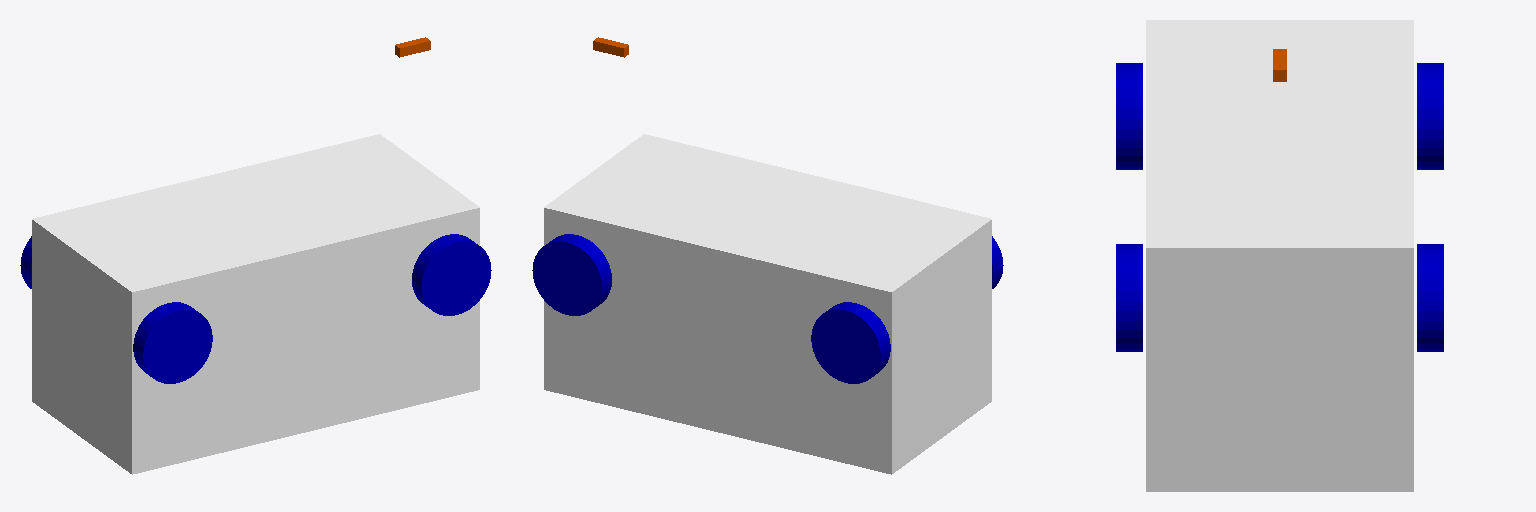
robot.urdf — my_robot:
<?xml version='1.0'?>
<robot name="my_robot">
  <gazebo>
    <static>false</static>
  </gazebo>

<!-- specifying materials and colors of model-->
  <material name="blue">
    <color rgba="0 0 0.8 1"/>
  </material>

  <material name="white">
    <color rgba="1 1 1 1"/>
  </material>

<!-- chassis description-->
	<link name='base_link'>
      <collision name='collision'>
        <geometry>
          <box size="1 .5 .5"/>
        </geometry>
        <origin xyz="0 0 0" rpy="0 0 0"/>
      </collision>

      <visual name='visual'>
        <geometry>
          <box size="1 .5 .5"/>
        </geometry>
        <origin xyz="0 0 0" rpy="0 0 0"/>
        <material name="white"/>
      </visual>
      <gazebo>
        <friction>
          <ode>
            <mu>0.00</mu>
            <mu2>0.00</mu2>
          </ode>
        </friction>
      </gazebo>
  </link>

    <!-- front right wheel description-->
  <link name="fr_wheel">
    
    <collision name="collision">
      <geometry>
        <sphere radius="0.1"/>
      </geometry>
      <origin xyz="0 0 0" rpy="0 1.5707 1.5707"/>
    </collision>
    <visual name="visual">
      <geometry>
        <cylinder radius=".1" length=".05"/>
      </geometry>
      <origin xyz="0 0 0" rpy="0 1.5707 1.5707"/>
      <material name="blue"/>
    </visual>
    <!-- replace inertial values later-->
    <inertial>
      <mass value="3"/>
      <inertia ixx="0.4" ixy="0.0" ixz="0.0" iyy="0.4" iyz="0.0" izz="0.2"/>
    </inertial>
  </link>
  <joint type="fixed" name="fr_wheel_hinge">
    <origin xyz=".4 .28 .1" rpy="0 0 0"/>
    <child link="fr_wheel"/>
    <parent link="base_link"/>
    <axis xyz="0 1 0"/>
	</joint>

  <!-- descripton for the front left wheel-->
  <link name="fl_wheel">
    
    <collision name="collision">
      <geometry>
        <sphere radius="0.1"/>
      </geometry>
      <origin xyz="0 0 0" rpy="0 1.5707 1.5707"/>
    </collision>
    <visual name="visual">
      <geometry>
        <cylinder radius=".1" length=".05"/>
      </geometry>
      <origin xyz="0 0 0" rpy="0 1.5707 1.5707"/>
      <material name="blue"/>
    </visual>
    <!-- replace inertial values later-->
    <inertial>
      <mass value="3"/>
      <inertia ixx="0.4" ixy="0.0" ixz="0.0" iyy="0.4" iyz="0.0" izz="0.2"/>
    </inertial>
  </link>

  <joint type="fixed" name="fl_wheel_hinge">
      <origin xyz="0.4 -.28 .1" rpy="0 0 0"/>
      <child link="fl_wheel"/>
      <parent link="base_link"/>
      <axis xyz="0 1 0"/>
	</joint>

  <!--back right wheel description-->
  <link name="br_wheel">
    <collision name="collision">
      <geometry>
        <sphere radius="0.1"/>
      </geometry>
      <origin xyz="0 0 0" rpy="0 1.5707 1.5707"/>
    </collision>
    <visual name="visual">
      <geometry>
        <cylinder radius=".1" length=".05"/>
      </geometry>
      <origin xyz="0 0 0" rpy="0 1.5707 1.5707"/>
      <material name="blue"/>
    </visual>
    <!-- replace inertial values later-->
    <inertial>
      <mass value="3"/>
      <inertia ixx="0.4" ixy="0.0" ixz="0.0" iyy="0.4" iyz="0.0" izz="0.2"/>
    </inertial>
  </link>
  <joint type="fixed" name="br_wheel_hinge">
    <origin xyz="-0.4 .28 .1" rpy="0 0 0"/>
    <child link="br_wheel"/>
    <parent link="base_link"/>
    <axis xyz="0 1 0"/>
	</joint>

  <!-- back left wheel description-->
  <link name="bl_wheel">
    <collision name="collision">
      <geometry>
        <sphere radius="0.1"/>
      </geometry>
      <origin xyz="0 0 0" rpy="0 1.5707 1.5707"/>
    </collision>
    <visual name="visual">
      <geometry>
        <cylinder radius=".1" length=".05"/>
      </geometry>
      <origin xyz="0 0 0" rpy="0 1.5707 1.5707"/>
      <material name="blue"/>
    </visual>
     <!-- replace inertial values later-->
    <inertial>
      <mass value="3"/>
      <inertia ixx="0.4" ixy="0.0" ixz="0.0" iyy="0.4" iyz="0.0" izz="0.2"/>
    </inertial>
  </link>
  <joint type="fixed" name="bl_wheel_hinge">
      <origin xyz="-.4 -.28 .1" rpy="0 0 0"/>
      <child link="bl_wheel"/>
      <parent link="base_link"/>
      <axis xyz="0 1 0"/>
	</joint>


  <!--specifying the depth camera-->
  <link name="camera_link">
    <collision>
      <origin xyz="0 0 0" rpy="0 0 0"/>
      <geometry>
        <box size=".025 .09 .025"/>
      </geometry>
    </collision>

    <visual>
      <origin xyz="0 0 0" rpy="0 0 0"/>
      <geometry>
        <box size=".09 .025 .025"/>
      </geometry>
    </visual>

    <inertial>
      <mass value=".01" />
      <inertia ixx=".001" ixy="0" ixz="0" iyy=".001" iyz="0" izz=".001" />
    </inertial>
  </link>

  <joint name="dc_joint" type="fixed">
    <axis xyz="0 1 0"/>
    <origin xyz=".45 0 .6" rpy="0 0 0"/>
    <parent link="base_link"/>
    <child link="camera_link"/>
  </joint>

  <!--plugins-->
        <!--joy control-->
  <gazebo>
    <plugin name="drive_controller" filename="libset_model_velocity.so">
    </plugin>
  </gazebo>
        <!--depth camera plugin-->
  <gazebo reference="camera_link">
    <sensor name="depth_camera" type="depth">
      <update_rate>20</update_rate>
      <camera>
        <horizontal_fov>1.047198</horizontal_fov>
        <image>
          <width>640</width>
          <height>480</height>
          <format>R8G8B8</format>
        </image>
        <clip>
          <near>0.05</near>
          <far>3</far>
        </clip>
      </camera>
      <plugin name="depth_controller" filename="libgazebo_ros_openni_kinect.so">
        <baseline>0.2</baseline>
        <alwaysOn>true</alwaysOn>
        <updateRate>1.0</updateRate>
        <cameraName>camera_ir</cameraName>
        <imageTopicName>/camera/color/image_raw</imageTopicName>
        <cameraInfoTopicName>/camera/depth/camera_info</cameraInfoTopicName>
        <depthImageTopicName>/camera/depth/image_raw</depthImageTopicName>
        <depthImageInfoTopicName>/camera/depth/camera_info</depthImageInfoTopicName>
        <pointCloudTopicName>/camera/depth/points</pointCloudTopicName>
        <frameName>camera_link</frameName>
        <pointCloudCutoff>0.1</pointCloudCutoff>
        <pointCloudCutoffMax>3.0</pointCloudCutoffMax>
        <distortionK1>0.00000001</distortionK1>
        <distortionK2>0.00000001</distortionK2>
        <distortionK3>0.00000001</distortionK3>
        <distortionT1>0.00000001</distortionT1>
        <distortionT2>0.00000001</distortionT2>
        <CxPrime>0</CxPrime>
        <Cx>0</Cx>
        <Cy>0</Cy>
        <focalLength>0</focalLength>
        <hackBaseline>0</hackBaseline>
      </plugin>
    </sensor>
  </gazebo>
  <!--odemetry data-->
  <gazebo>
    <plugin name="odom" filename="libgazebo_ros_p3d.so">
      <frameName>base_link</frameName>
      <bodyName>chassis</bodyName>
      <topicName>odom</topicName>
      <updateRate>30.0</updateRate>
    </plugin>
  </gazebo>
</robot>

--- What the picture shows (computed from the rendered views, not written in the file) ---
Views: 3 orthographic renders of the robot side by side, from view 1: azimuth 30°, elevation 25°; view 2: azimuth 150°, elevation 25°; view 3: azimuth 270°, elevation 25°.
Robot: my_robot — 6 links, 5 joints (5 fixed); root link base_link; default pose: every joint at zero.
Visible links, largest first — view 1: base_link, fl_wheel, bl_wheel; view 2: base_link, fr_wheel, br_wheel; view 3: base_link, fr_wheel, fl_wheel, br_wheel, bl_wheel.
Link boxes in pixels (box(x1,y1,x2,y2)): base_link: box(32, 134, 479, 474); fl_wheel: box(412, 234, 491, 315); bl_wheel: box(133, 302, 212, 383); base_link: box(544, 134, 991, 474); fr_wheel: box(532, 234, 611, 315); br_wheel: box(811, 302, 890, 383); base_link: box(1146, 20, 1413, 491); fr_wheel: box(1417, 244, 1443, 351); fl_wheel: box(1116, 244, 1142, 351); br_wheel: box(1417, 63, 1443, 169); bl_wheel: box(1116, 63, 1142, 169).
Bounding box of the posed robot: 1 × 0.61 × 0.8625 m (x, y, z).
Geometry: primitives only (box / cylinder / sphere), no mesh files.